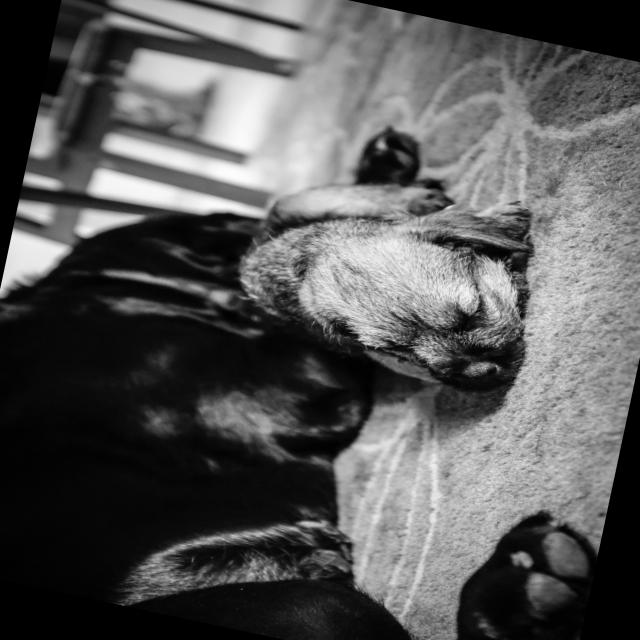laying down: (217, 140, 558, 406)
